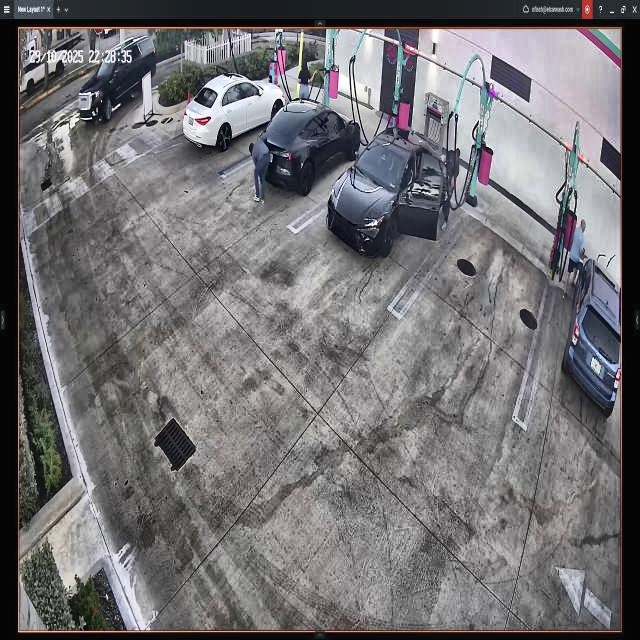Car: (327, 131, 443, 259), (255, 102, 360, 191), (186, 73, 284, 164)
